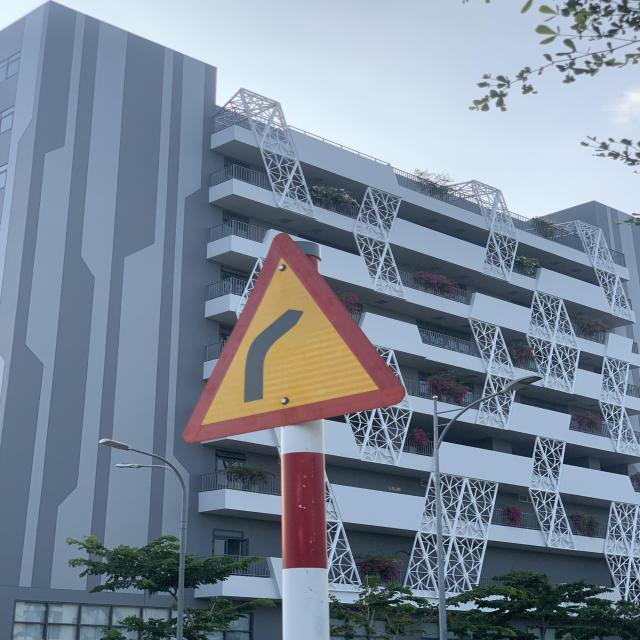Duong_Nguoi_Di_Bo_Cat_Ngang: (180, 229, 408, 445)
